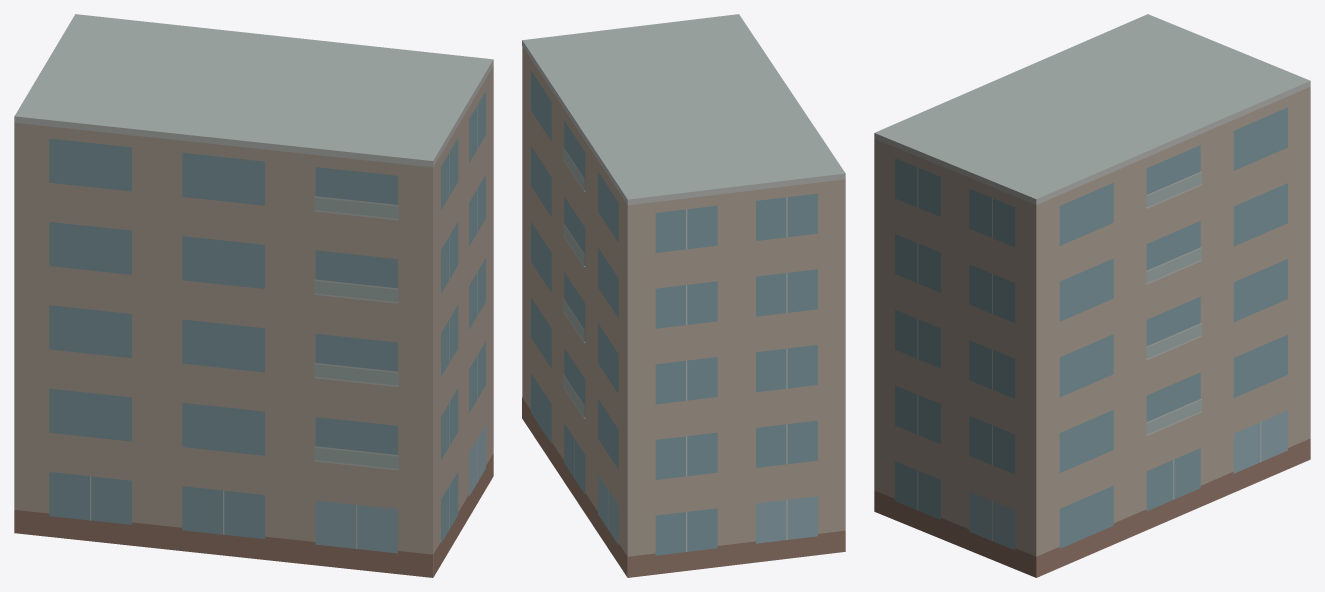
The model's file is survey-upis-32881799.glb.
3 renders of one model, left to right at view 1: azimuth 30°, elevation 25°; view 2: azimuth 150°, elevation 25°; view 3: azimuth 270°, elevation 25°, orthographic. The views are drawn at different scales.
Parts seen in each view (by area): view 1: survey-upis-32881799.tmp; view 2: survey-upis-32881799.tmp; view 3: survey-upis-32881799.tmp.
Part boxes in pixels (x1,y1,x2,y2): survey-upis-32881799.tmp: (14, 14, 493, 577); survey-upis-32881799.tmp: (522, 14, 845, 577); survey-upis-32881799.tmp: (874, 14, 1310, 577).
Bounding box in the file's own units: 16.69 × 15.9 × 16.62.
